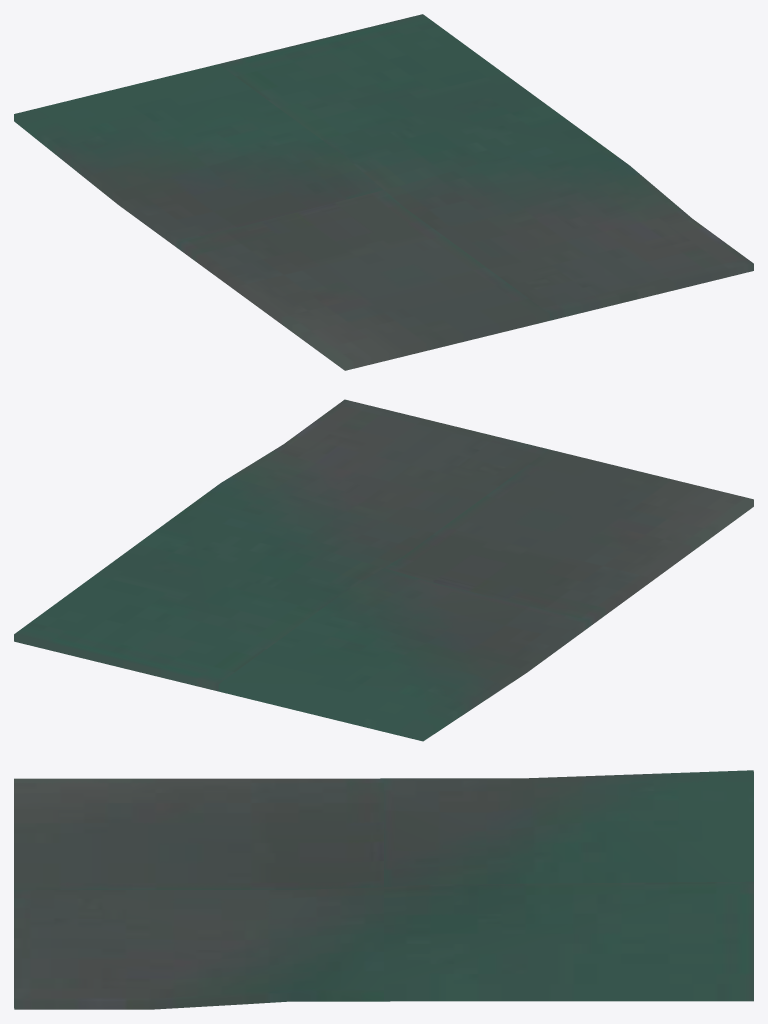
3 renders of one model, top to bottom at view 1: azimuth 30°, elevation 25°; view 2: azimuth 150°, elevation 25°; view 3: azimuth 270°, elevation 25°, orthographic. The views are drawn at different scales.
Visible parts, largest first — view 1: 3043627270437063761_0; view 2: 3043627270437063761_0; view 3: 3043627270437063761_0.
Boxes of the visible parts, x1,y1,x2,y2 form: 3043627270437063761_0: [14, 14, 753, 370]; 3043627270437063761_0: [14, 399, 753, 741]; 3043627270437063761_0: [14, 770, 753, 1009].
Bounding box in the file's own units: 54.63 × 2.18 × 76.53.
Materials: 1 (1 with a texture image).
